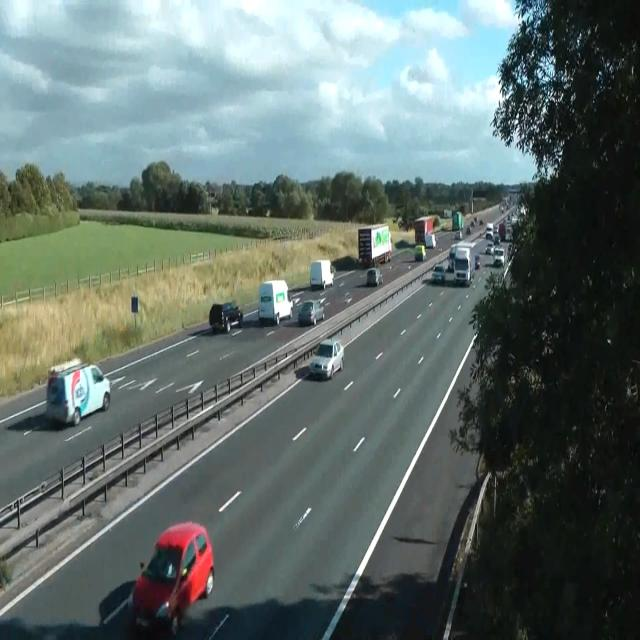bus: (298, 299, 324, 325), (366, 268, 382, 286), (431, 263, 445, 283), (484, 242, 494, 254), (474, 253, 480, 270), (454, 229, 462, 239), (264, 209, 270, 216), (246, 207, 252, 214)
car: (432, 243, 474, 285)
jeep: (129, 520, 215, 631), (45, 358, 111, 427), (309, 338, 344, 380), (208, 300, 242, 332), (492, 247, 504, 266), (414, 243, 426, 261)
minibus: (257, 279, 293, 325), (358, 223, 392, 268), (452, 246, 474, 286), (310, 260, 334, 290), (414, 215, 435, 245), (452, 211, 463, 230), (424, 233, 436, 248), (498, 220, 506, 240), (443, 209, 451, 218)
